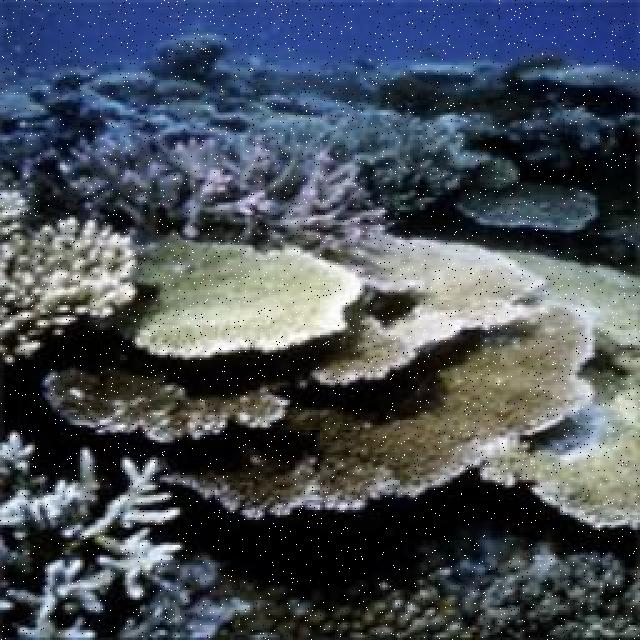reefs: (166, 298, 597, 516), (58, 129, 396, 274), (479, 249, 638, 530), (0, 431, 181, 638), (311, 236, 550, 385), (98, 237, 364, 359), (0, 186, 138, 365), (48, 352, 290, 440)
